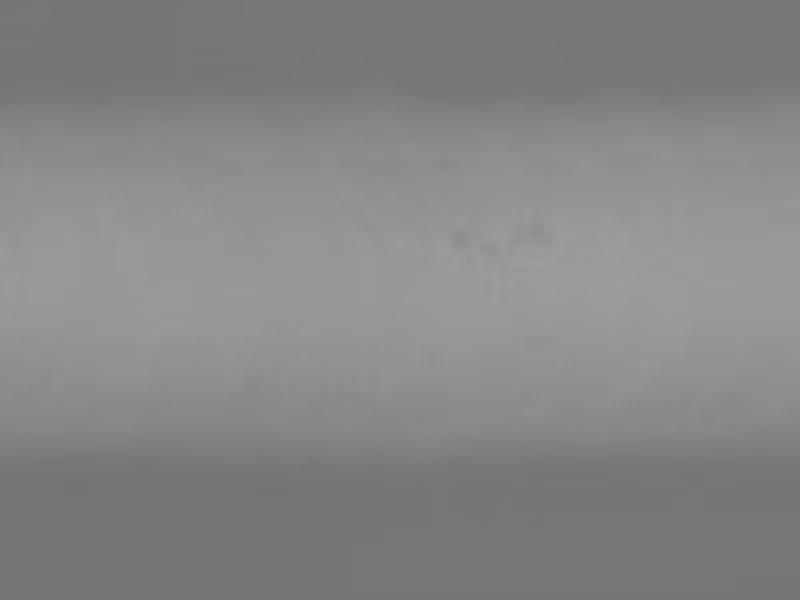defect: (448, 228, 468, 249), (479, 239, 499, 255), (527, 216, 548, 231)
